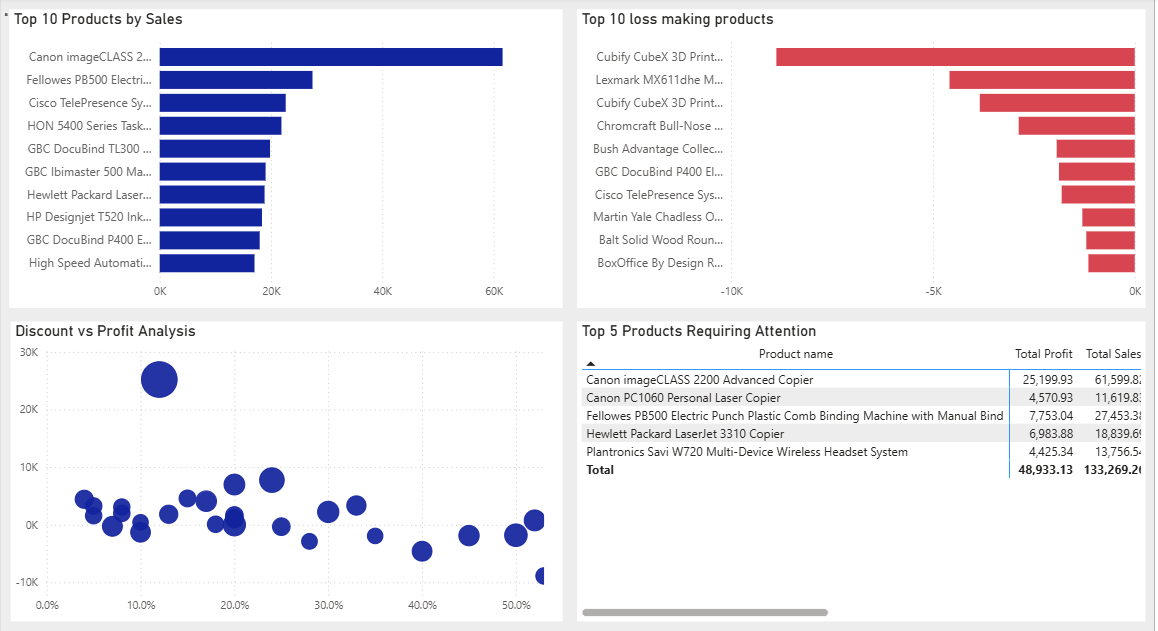

What the dashboard file says about the page in this screenshot:
{"tool":"powerbi","page":{"name":"Product Insights","canvas":[1280,720],"ordinal":1},"visuals":[{"type":"clusteredBarChart","title":"Top 10 Products by Sales ","fields":{"Category":["public vw_product_performance.product_name"],"Y":["Sum(public vw_product_performance.total_sales)"]},"box":[9.6,13.8,614.7,331.4],"z":0},{"type":"clusteredBarChart","title":"Top 10 loss making products","fields":{"Category":["public vw_product_performance.product_name"],"Y":["Sum(public vw_product_performance.total_profit)"]},"box":[639.5,13.8,631.3,331.4],"z":1000},{"type":"scatterChart","title":"Discount vs Profit Analysis","fields":{"X":["Sum(public vw_product_performance.avg_discount)"],"Y":["Sum(public vw_product_performance.total_profit)"],"Size":["Sum(public vw_product_performance.total_sales)"],"Category":["public vw_product_performance.product_name"]},"box":[11,360.3,613.4,332.8],"z":2000},{"type":"actionButton","box":[0,0,11,39.9],"z":3000},{"type":"pivotTable","title":"Top 5 Products Requiring Attention  ","fields":{"Rows":["public vw_product_performance.product_name"],"Values":["Sum(public vw_product_performance.total_profit)","Sum(public vw_product_performance.total_sales)","Sum(public vw_product_performance.avg_discount)","Sum(public vw_product_performance.order_count)"]},"box":[639.5,360.3,631.3,332.8],"z":4000}]}

Visuals, with their boxes on the page's 1280x720 design canvas (x1, y1, x2, y2). These are canvas units, not pixel positions in the 1158x631 screenshot, which may show the page scaled, cropped or inside an application window:
"Top 10 Products by Sales " clusteredBarChart: [10,14,624,345]
"Top 10 loss making products" clusteredBarChart: [640,14,1271,345]
"Discount vs Profit Analysis" scatterChart: [11,360,624,693]
actionButton: [0,0,11,40]
"Top 5 Products Requiring Attention  " pivotTable: [640,360,1271,693]
